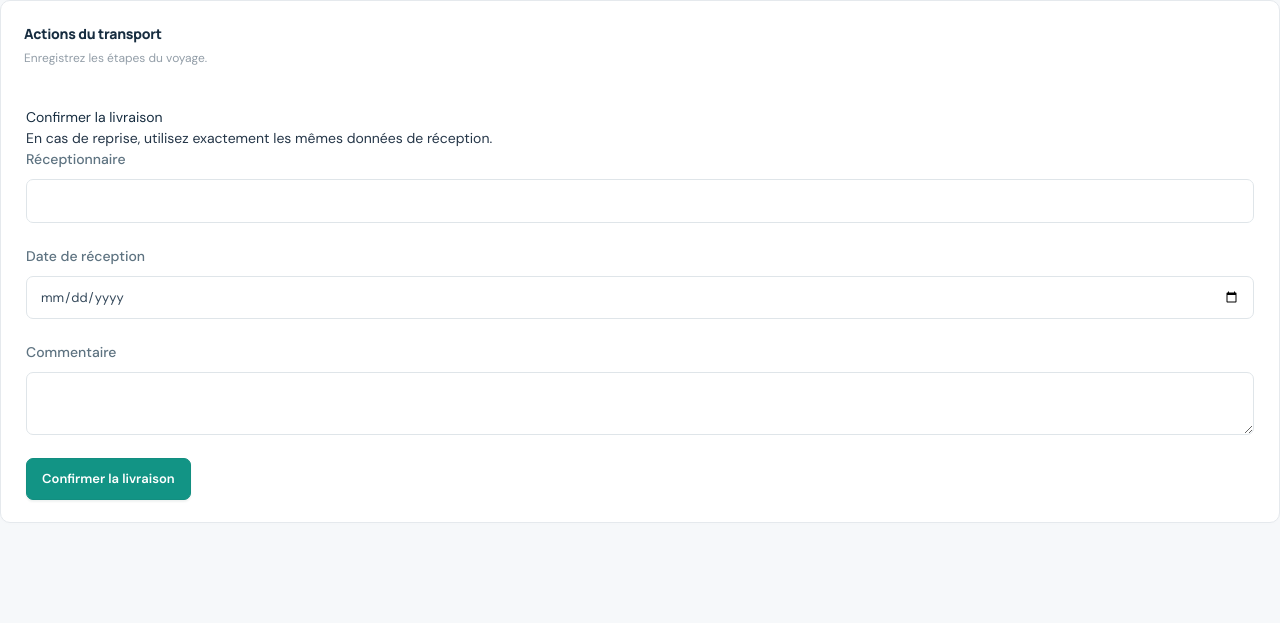
exige le réceptionnaire et la date avant toute requête
Click the button "Confirmer la livraison".
click(108, 479)  # box [26,458,191,500]
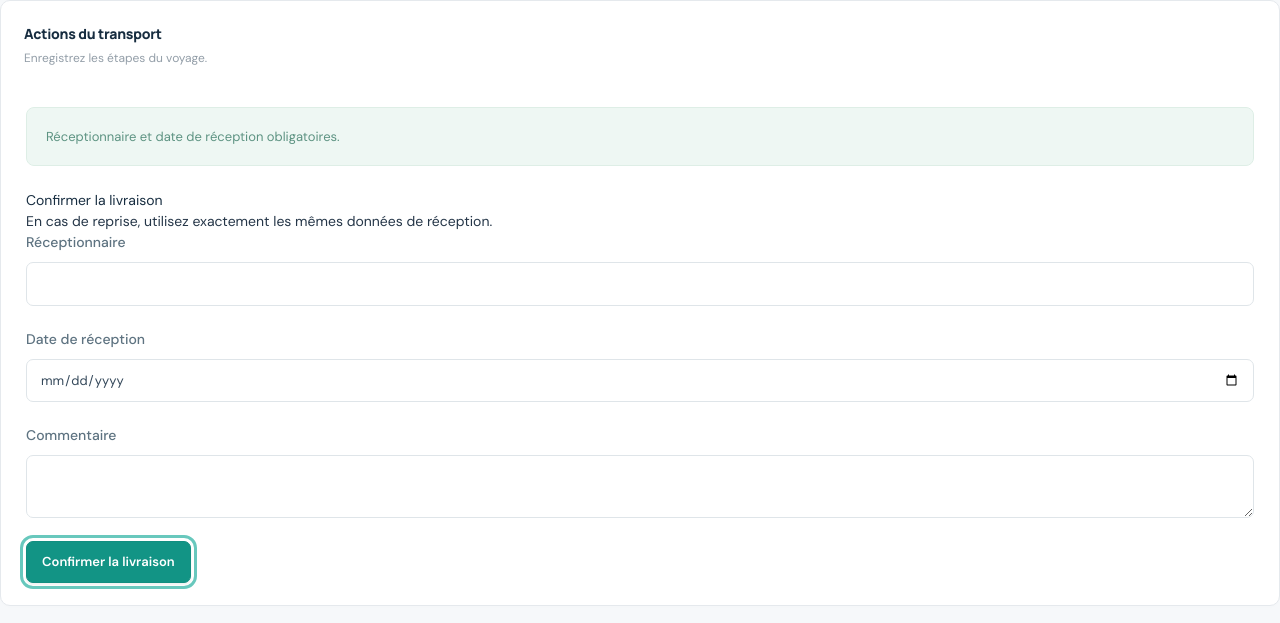
expect the message shows "Réceptionnaire et date de réception obligatoires": met, box [46,128,340,145]
